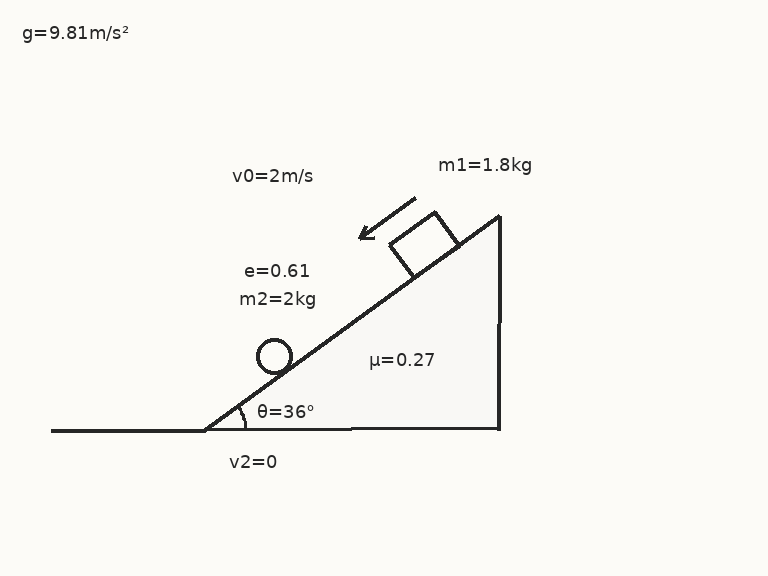ball: (254, 336, 294, 376)
block: (388, 210, 461, 279)
ramp: (203, 214, 501, 431)
